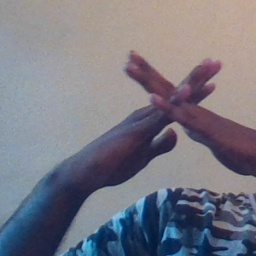W: (114, 40, 234, 172)
